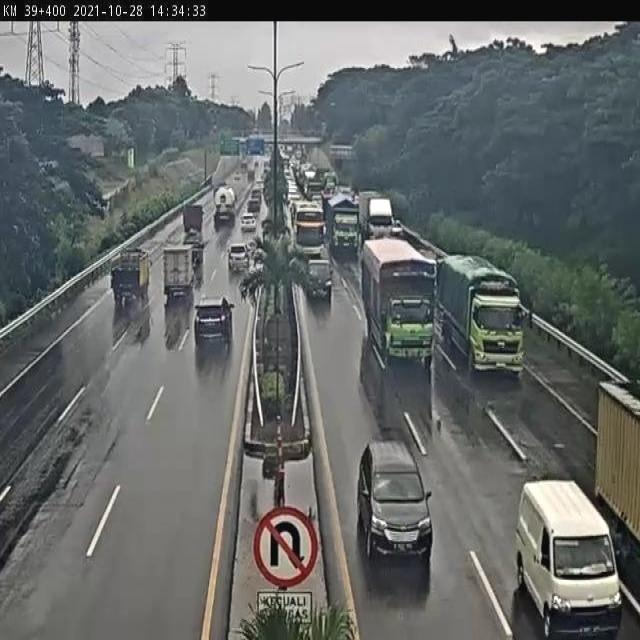Car: (352, 436, 441, 567), (192, 297, 236, 353), (227, 242, 252, 272), (241, 213, 259, 233), (245, 199, 264, 214), (249, 189, 263, 200)
Truck: (437, 253, 530, 378), (356, 236, 442, 368), (108, 248, 156, 306), (161, 242, 197, 310), (288, 199, 326, 259), (358, 193, 396, 236), (330, 199, 358, 257), (214, 184, 237, 231), (182, 202, 210, 238), (306, 179, 327, 201), (322, 173, 339, 191)
Van: (502, 478, 622, 640), (304, 257, 338, 303)
